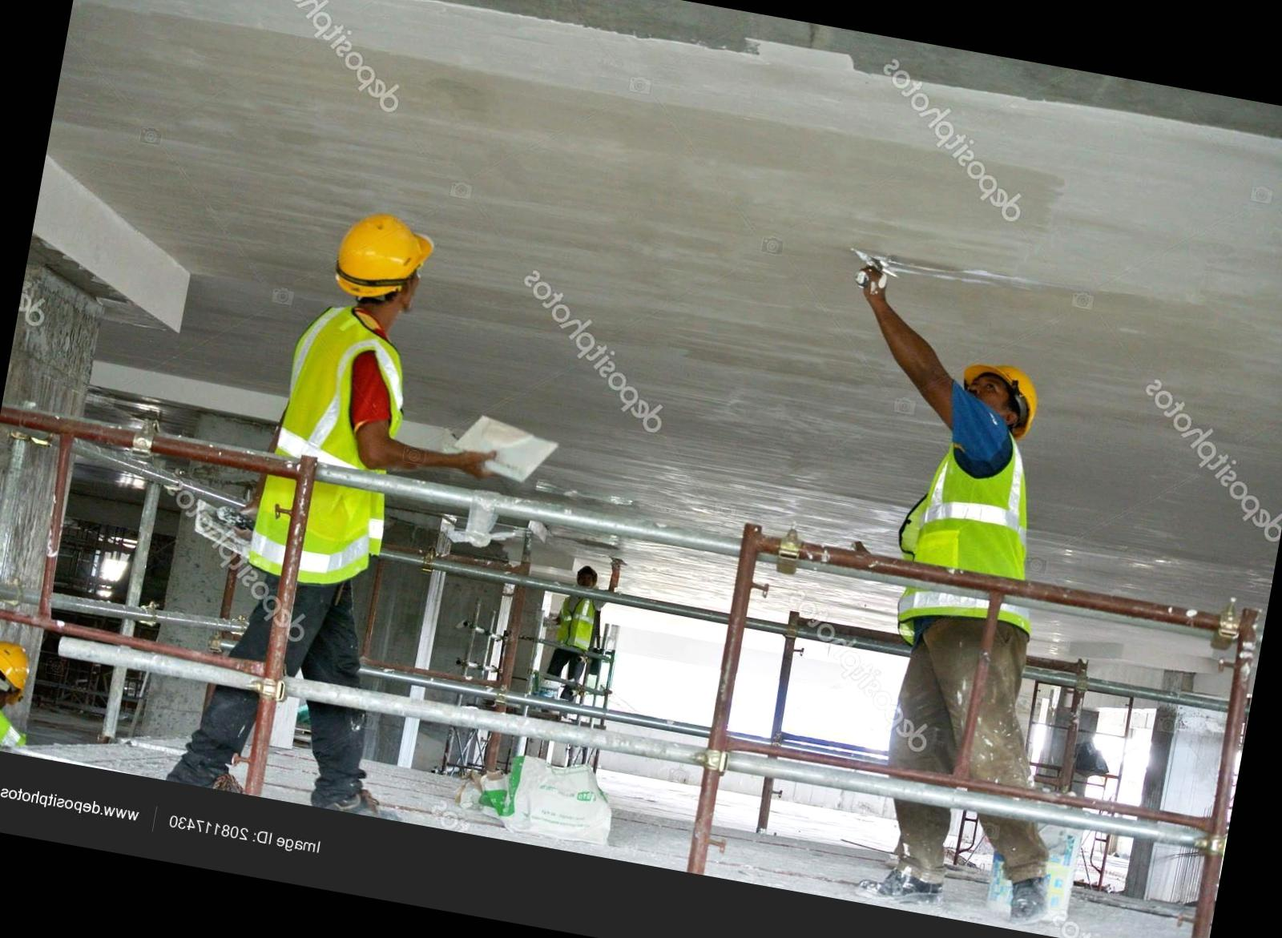helmet: (312, 205, 446, 317)
person: (170, 193, 481, 813), (825, 334, 1129, 916)
